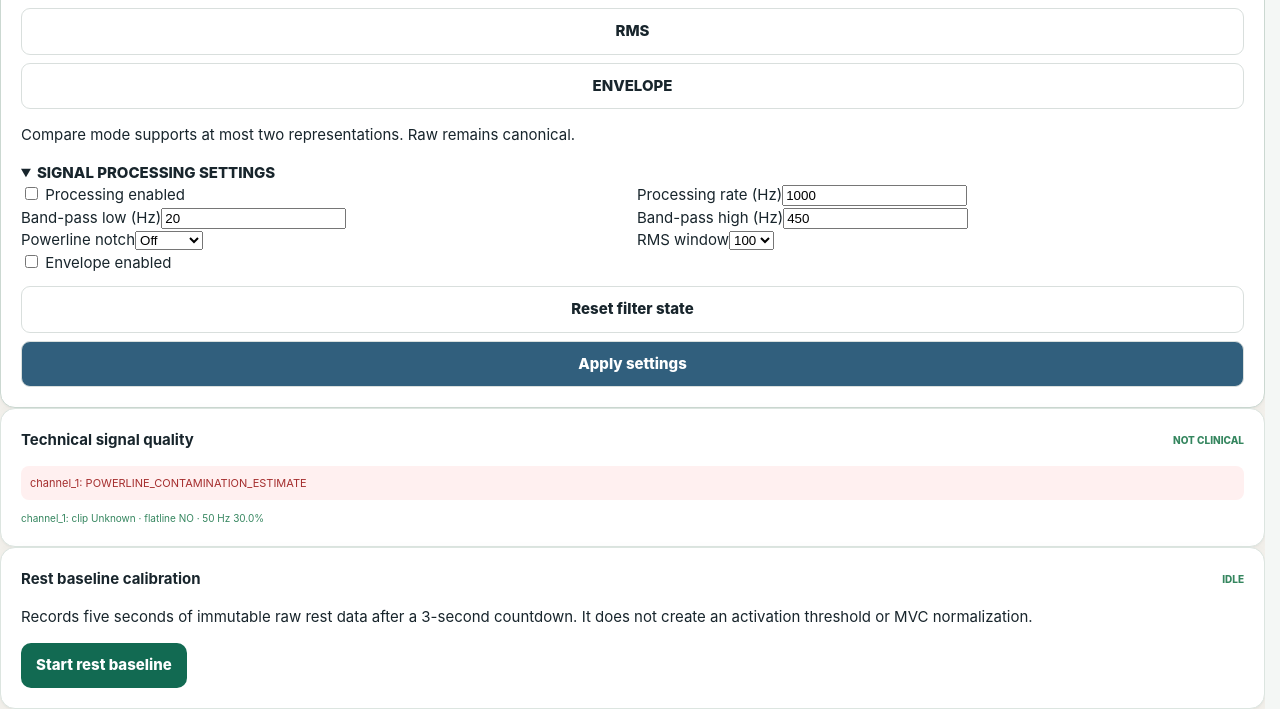
Scenario: Master EMG processing › shows raw selector, technical warning, and baseline control
(page scrolled)
Check: the text "channel_1: POWERLINE_CONTAMINATION_ESTIMATE" is shown, box left=21, top=466, right=1244, bottom=500
Click the button "Start rest baseline" at (104, 666), box left=21, top=643, right=187, bottom=688
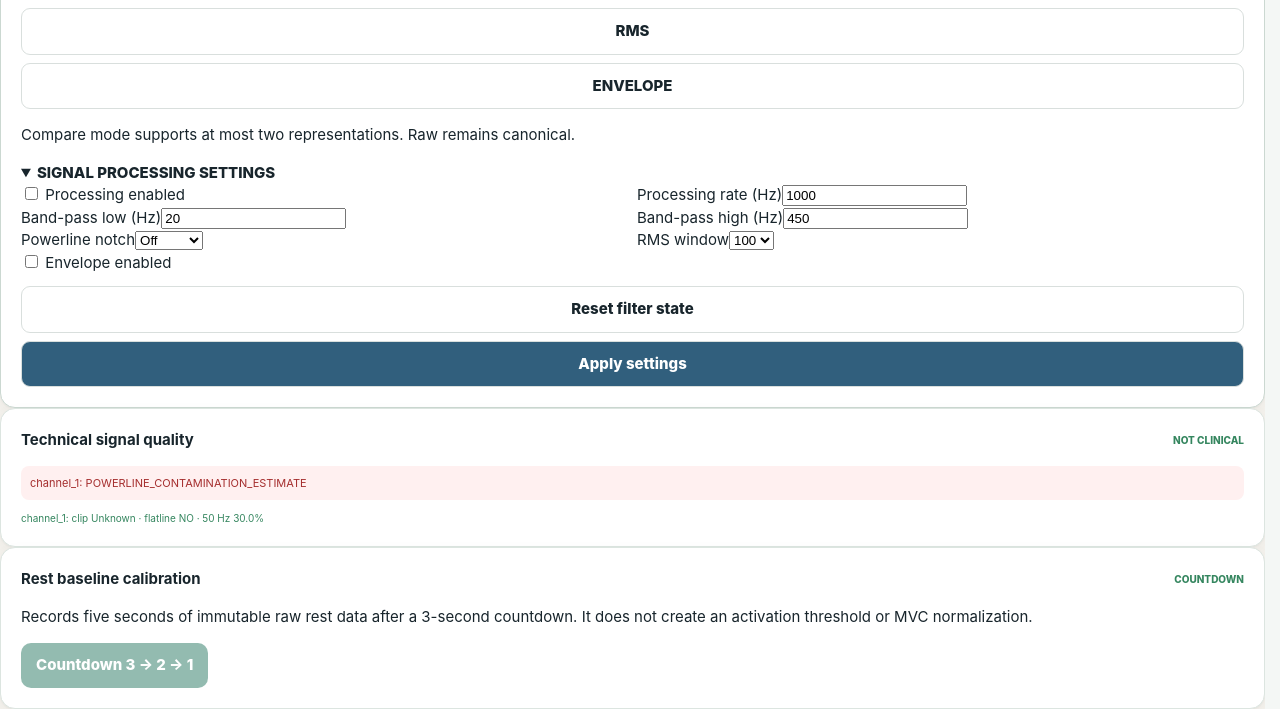
Check: the button "Countdown 3 → 2 → 1" is disabled, box left=21, top=643, right=208, bottom=688
